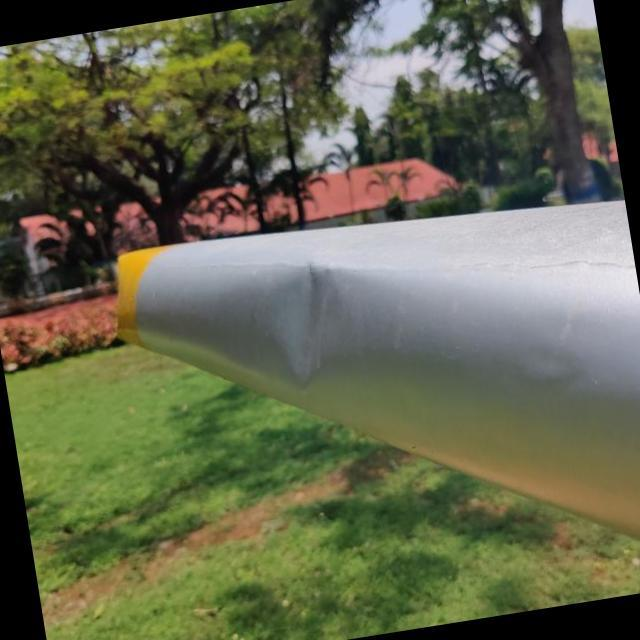Dent: (237, 242, 370, 405)
